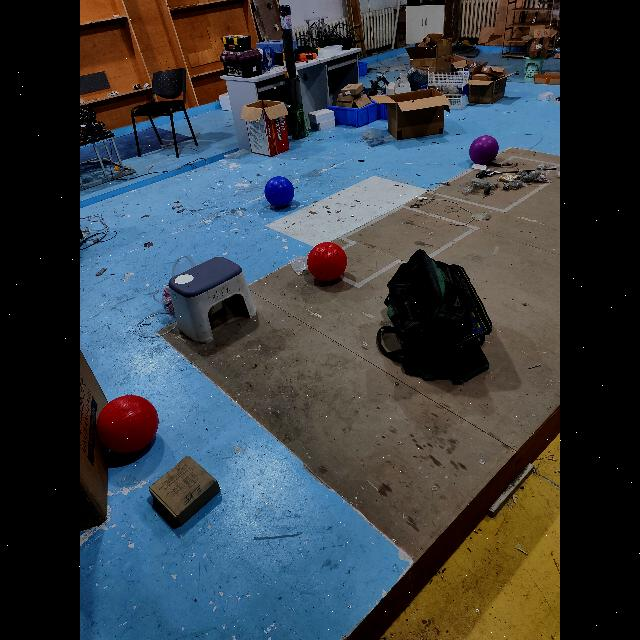B: (264, 176, 294, 208)
P: (469, 134, 499, 164)
R: (94, 394, 160, 456), (306, 240, 348, 282)
